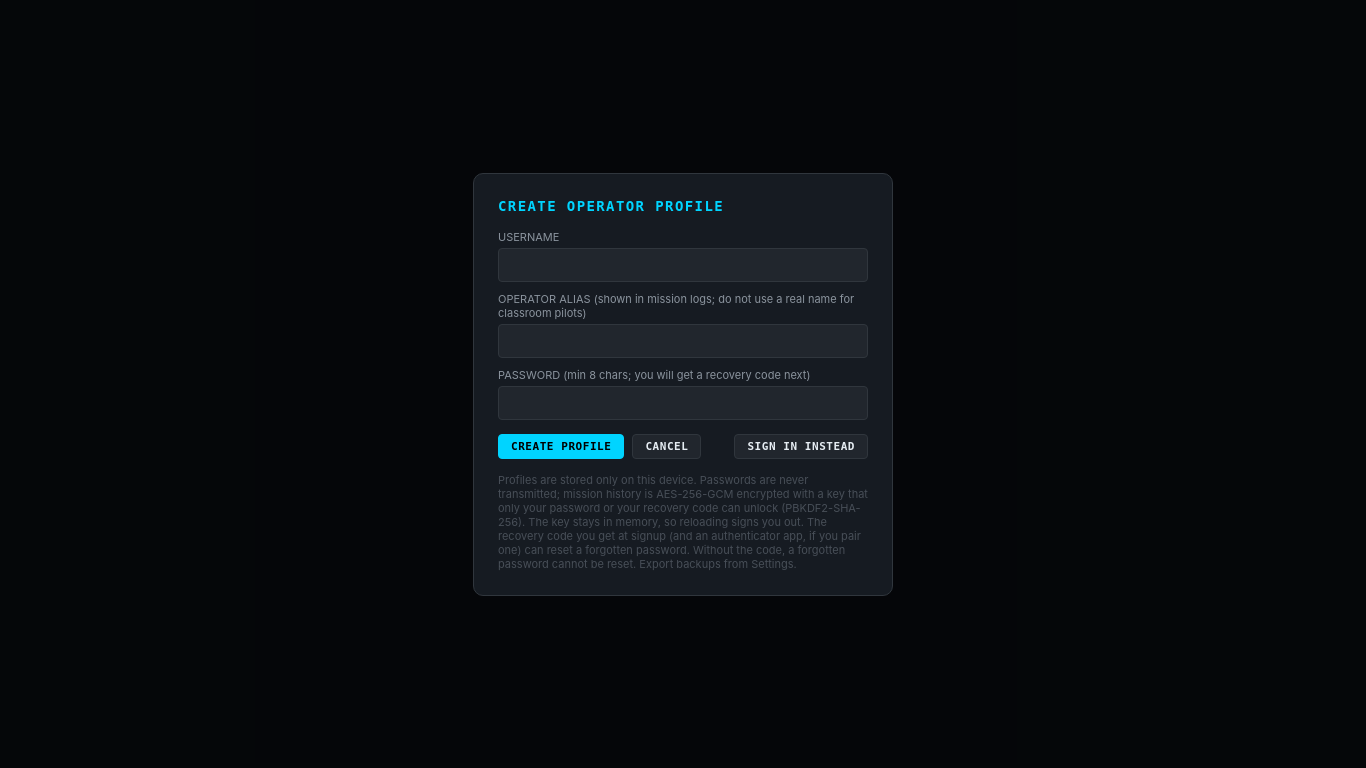
Test: SignInModal › opens in sign-up mode on a device with no profiles and surfaces validation errors
Expected: the text "CREATE OPERATOR PROFILE" is shown, x1=498 y1=198 x2=724 y2=214
In the field labelled "USERNAME": {"x": 683, "y": 264} x1=498 y1=248 x2=868 y2=282, type "fieldop"
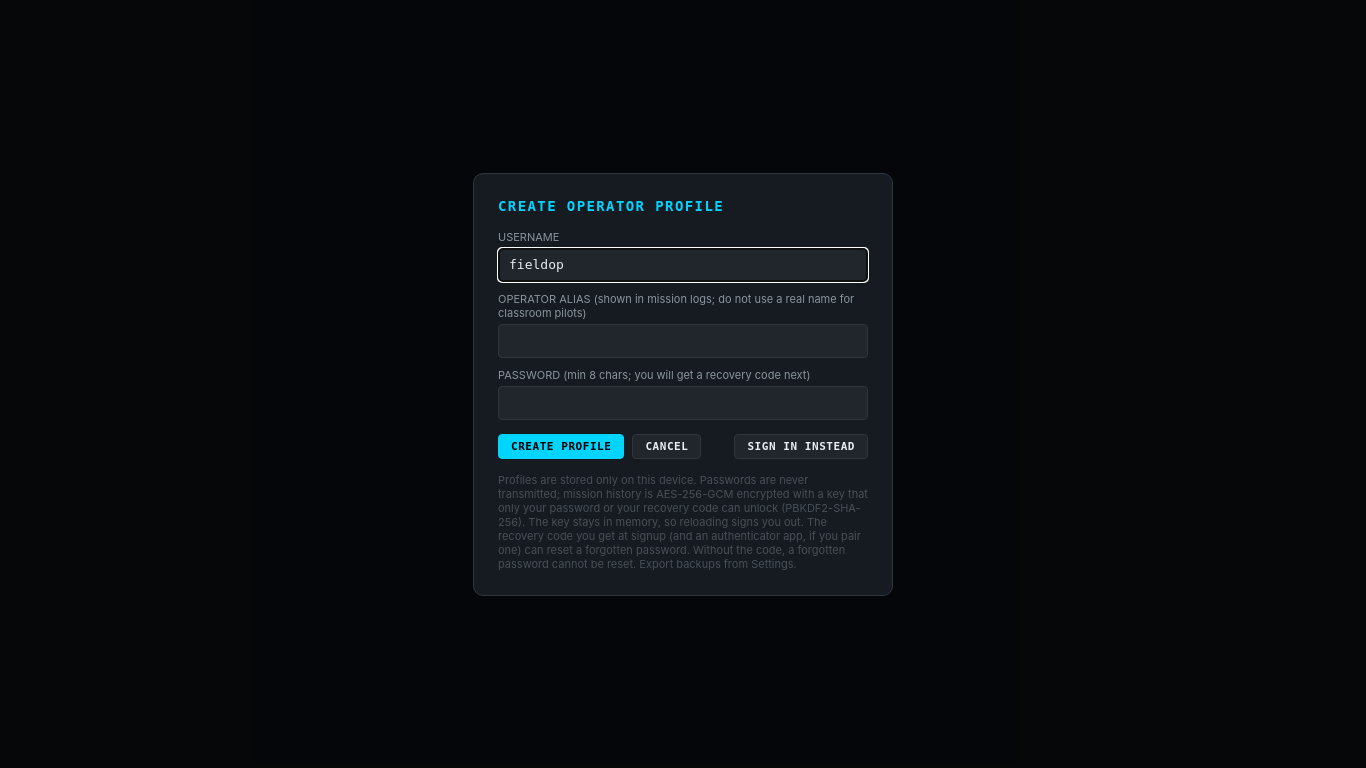
In the password field labelled "PASSWORD (min 8 chars; you will get a recovery code next)": {"x": 683, "y": 402} x1=498 y1=386 x2=868 y2=420, type "short"
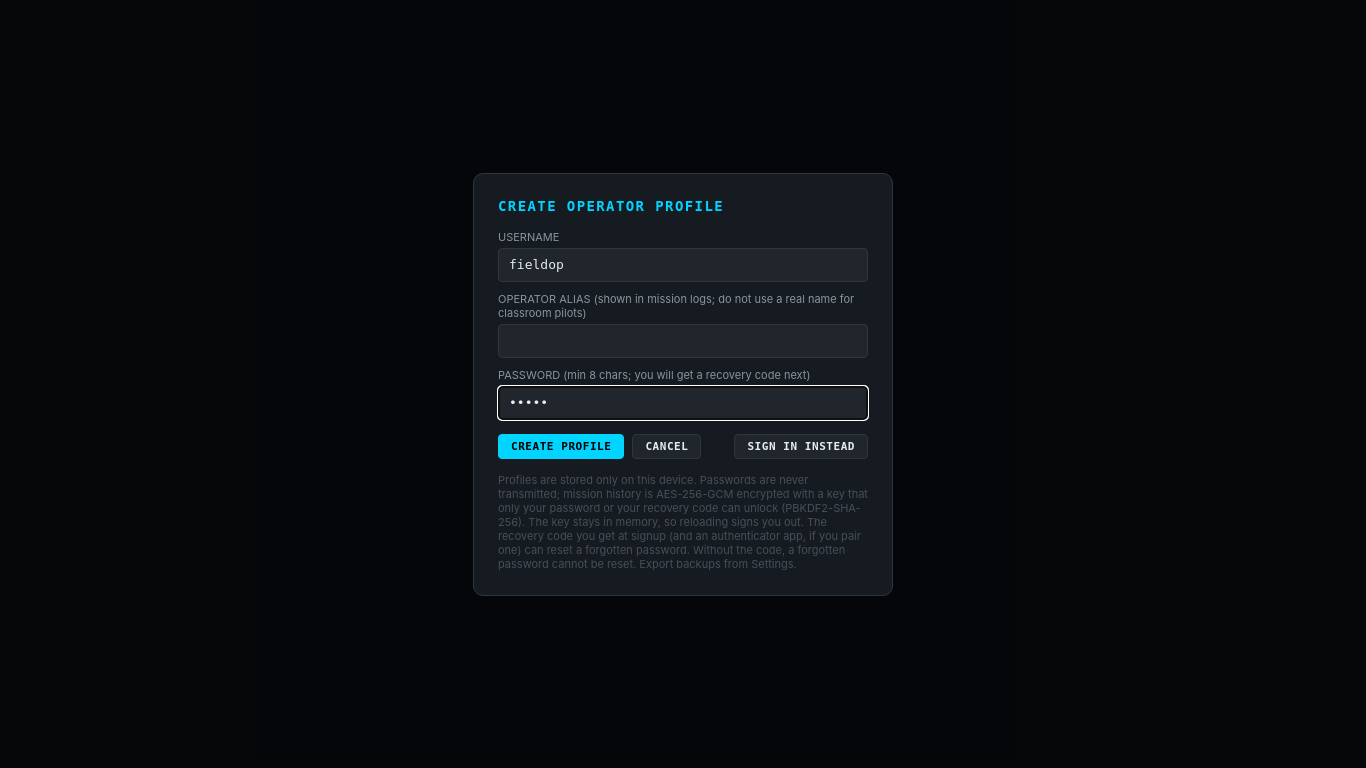
Click the button "CREATE PROFILE": {"x": 561, "y": 446} x1=498 y1=434 x2=624 y2=458
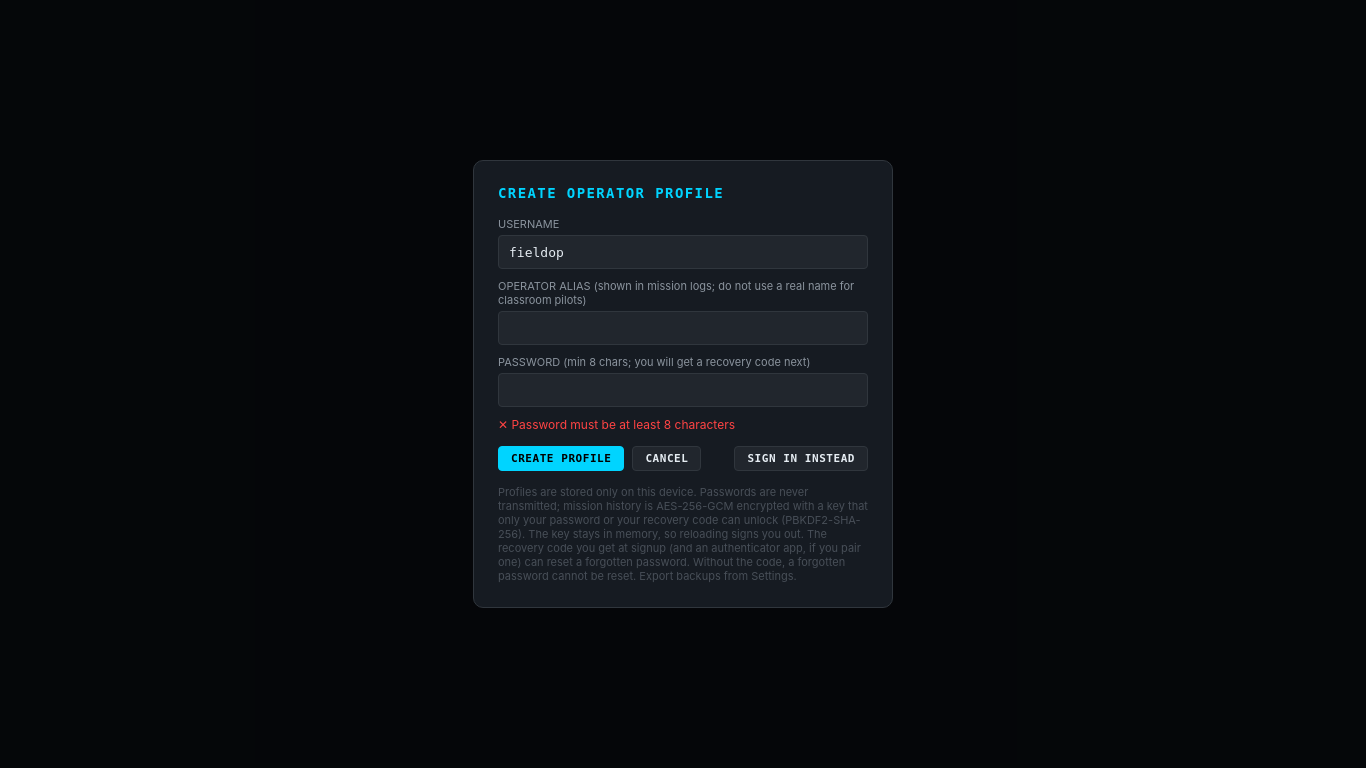
Expected: the element with test id "signin-modal" is shown, x1=473 y1=160 x2=893 y2=608
Expected: the text with test id "auth-error" shows "at least 8 characters", x1=511 y1=417 x2=735 y2=432
